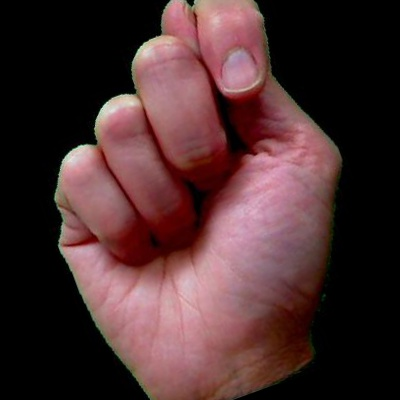t: (3, 3, 400, 395)
